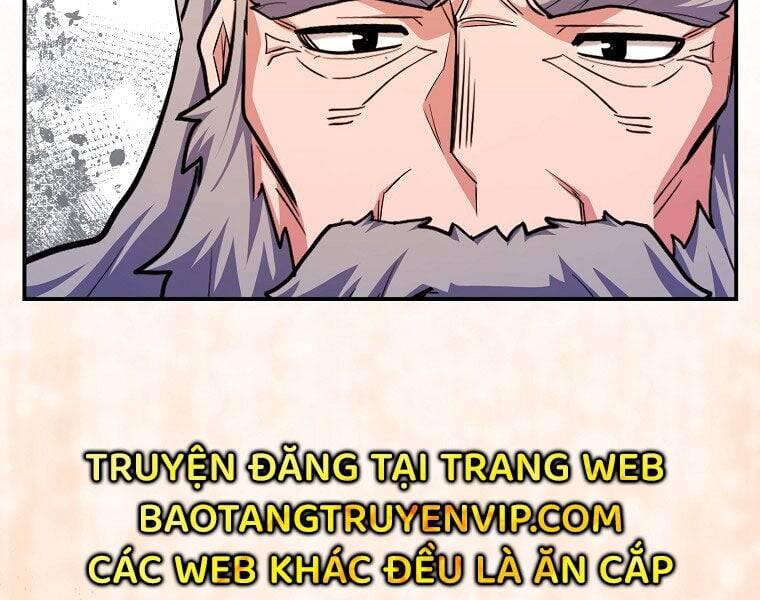quangcao: (80, 439, 678, 591)
